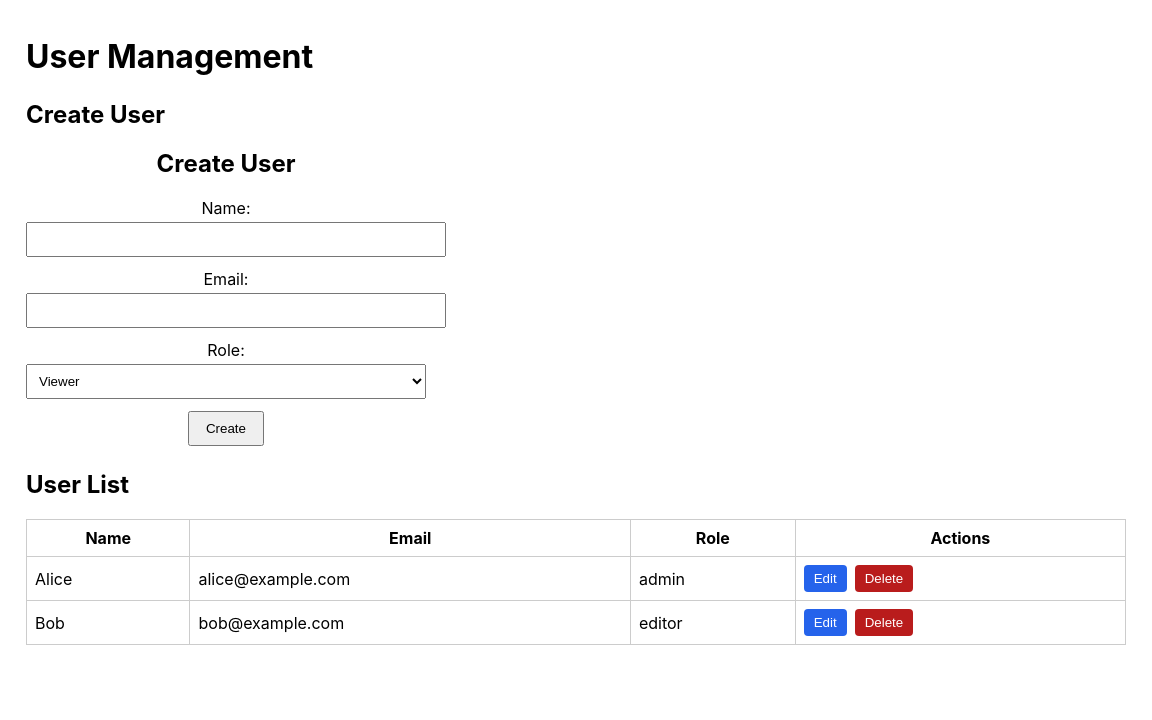
Test case: UserList › edit user loads form
Click the button with aria-label "edit alice" at (825,579), box top-left (804, 565), bottom-right (847, 592)
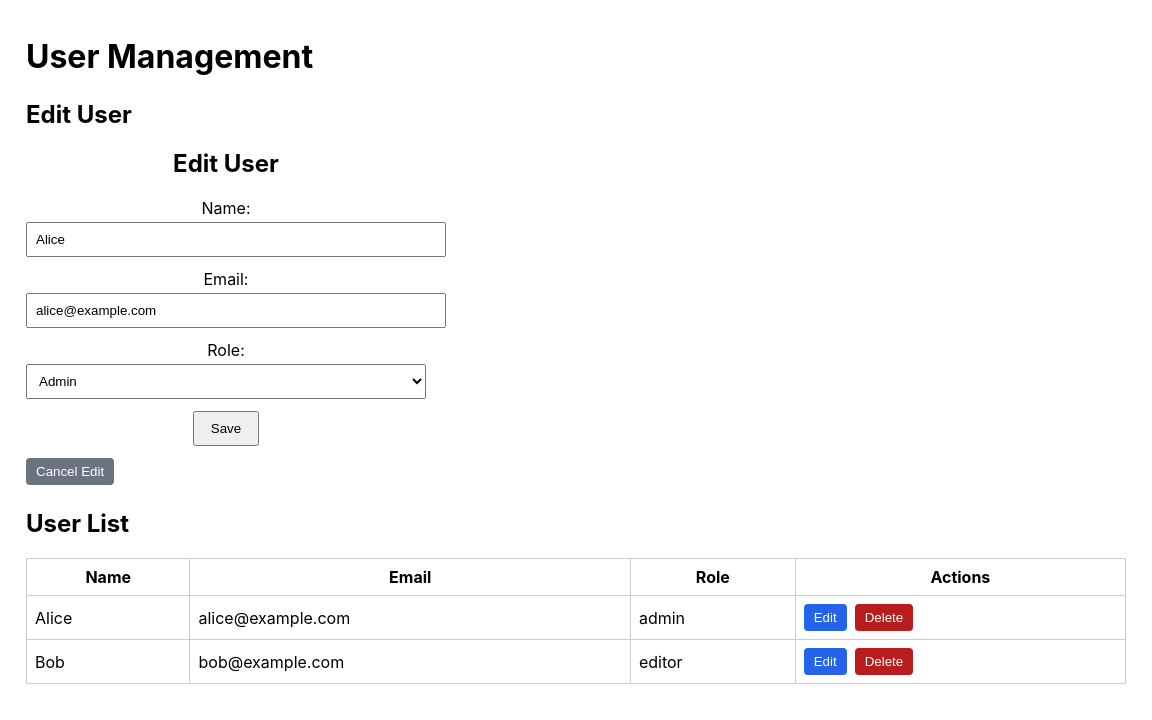
expect the field showing "Alice" is shown: met, box top-left (26, 222), bottom-right (446, 257)
